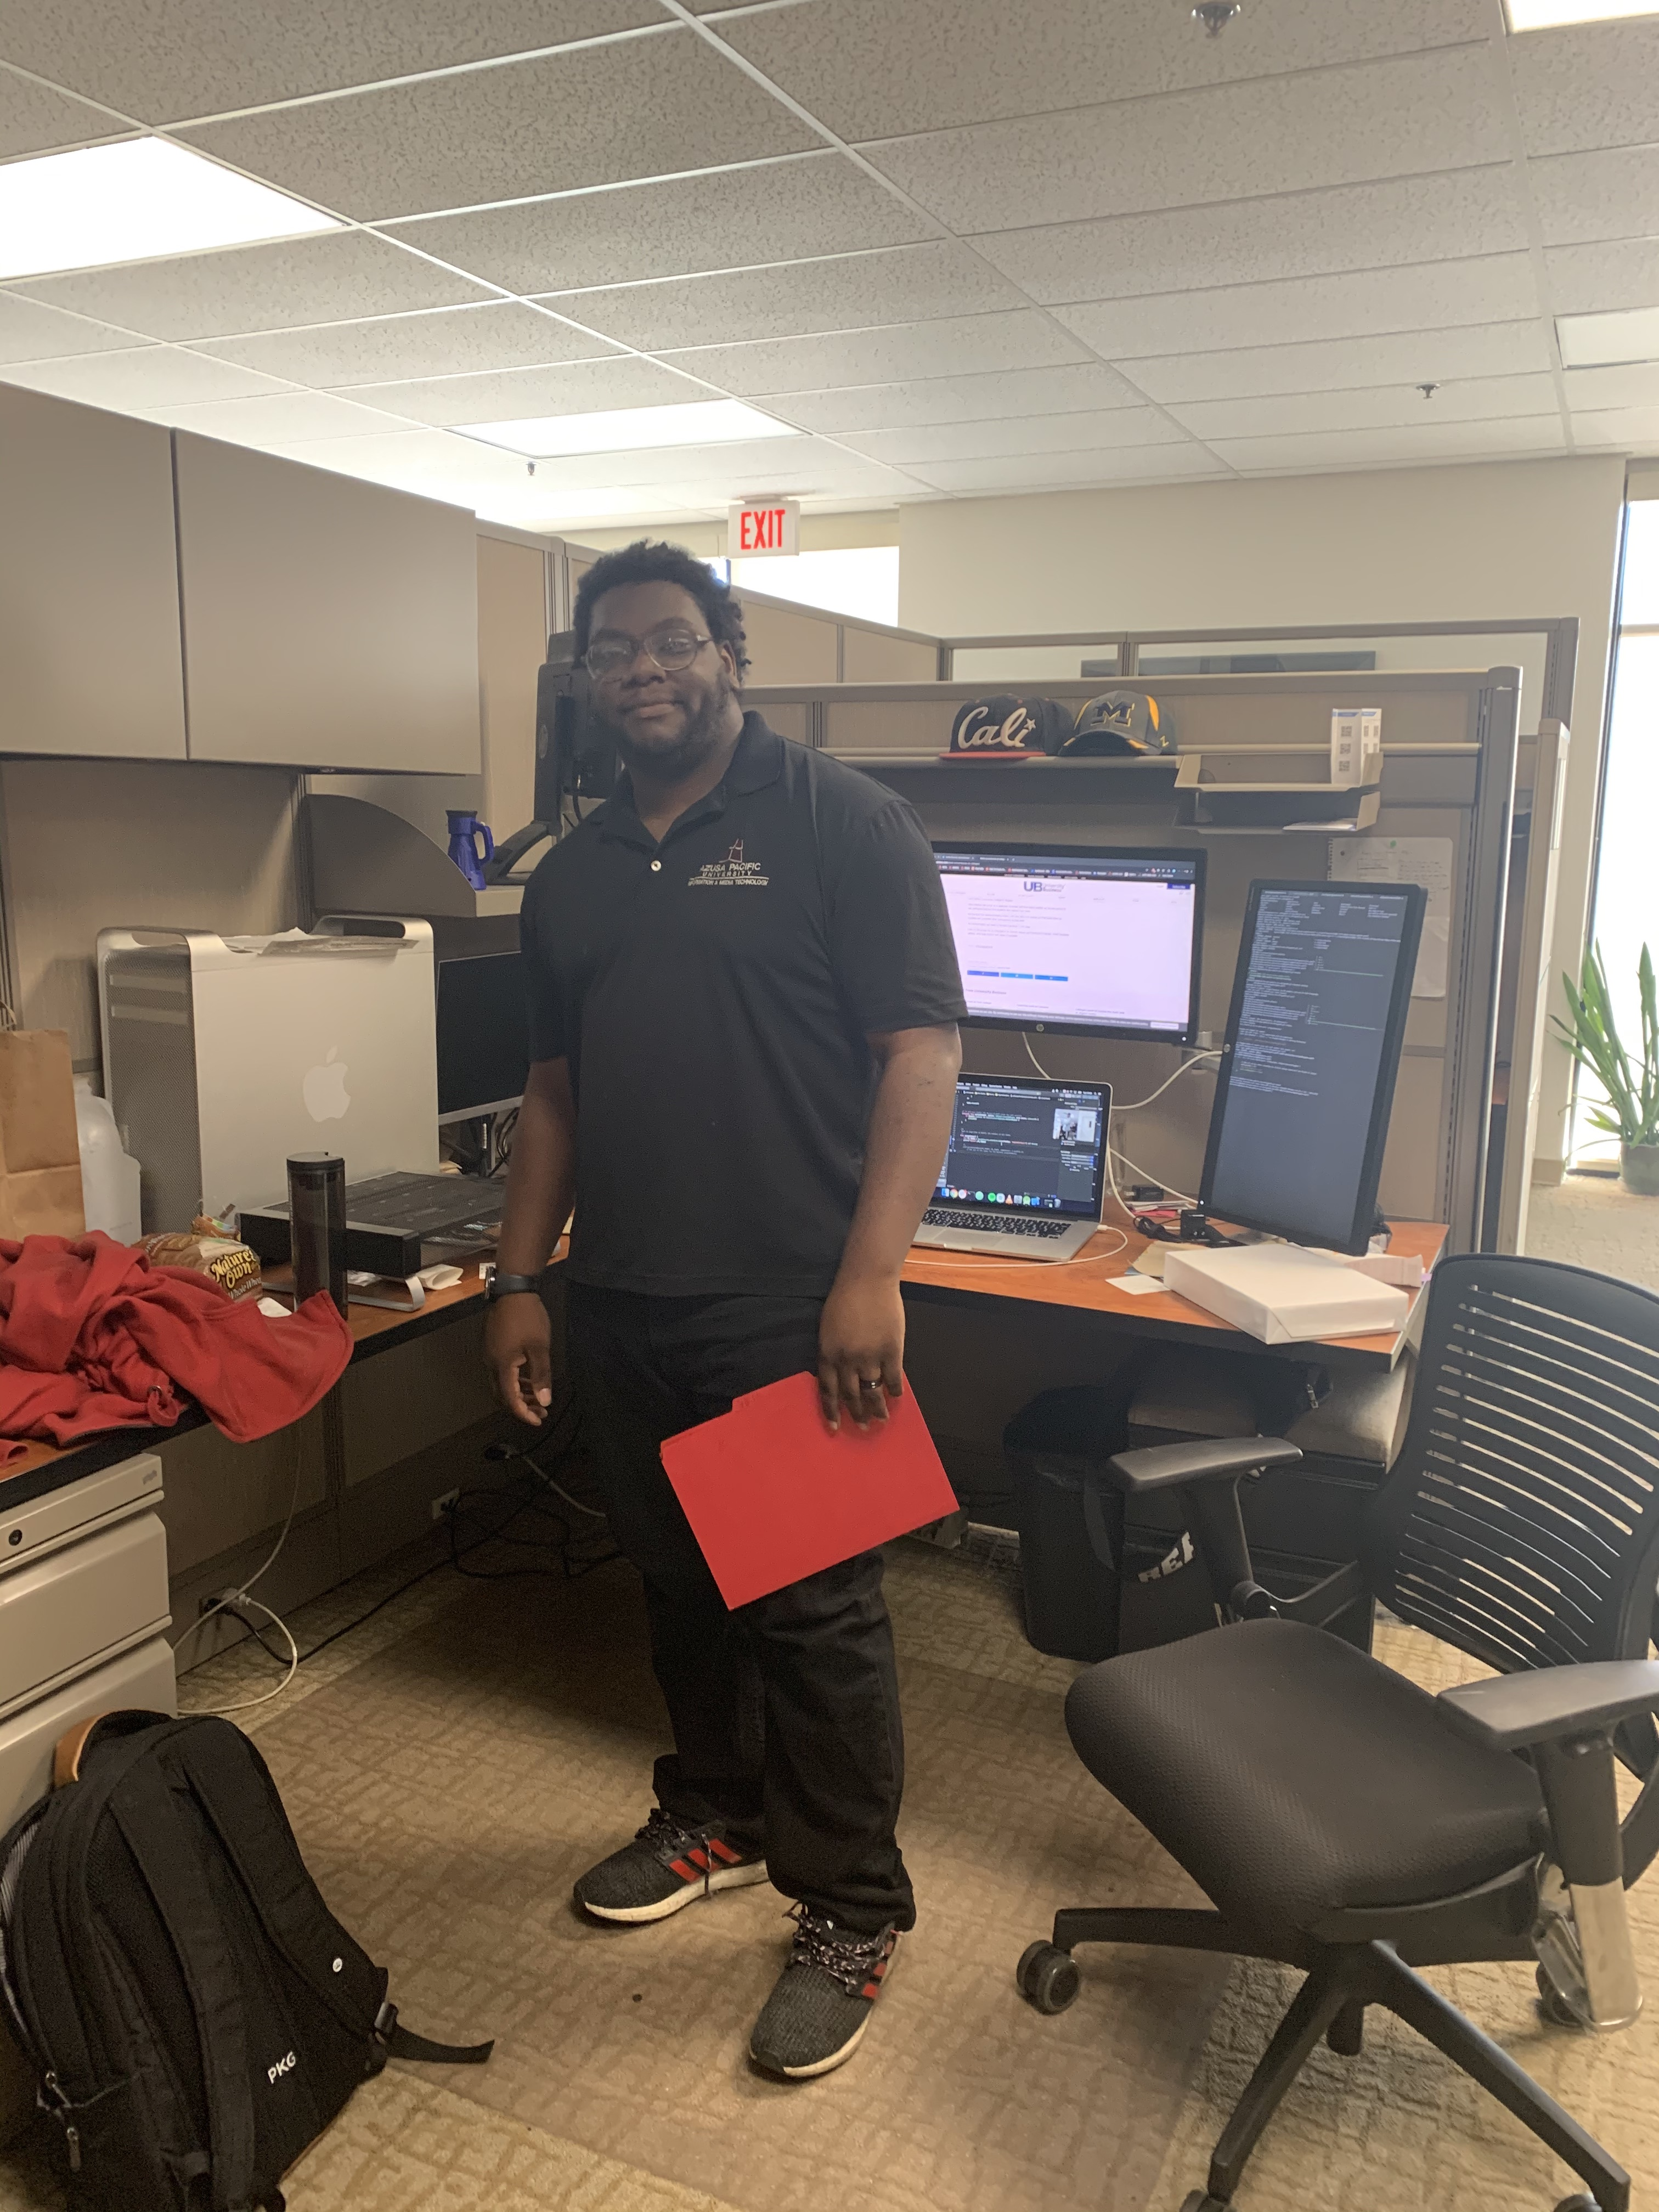red folder: (645, 1367, 985, 1623)
